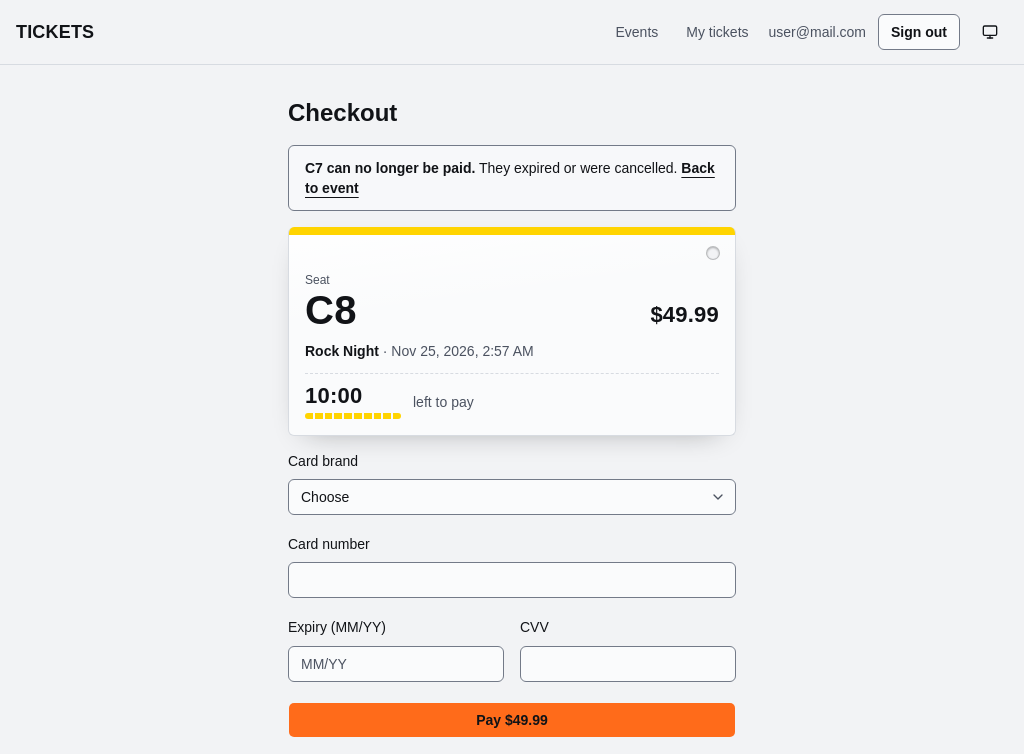
group checkout: paying › charges only the reservations that are still valid
Select "VISA" in the dropdown labelled "Card brand" at (512, 497), box [288,479,736,515]
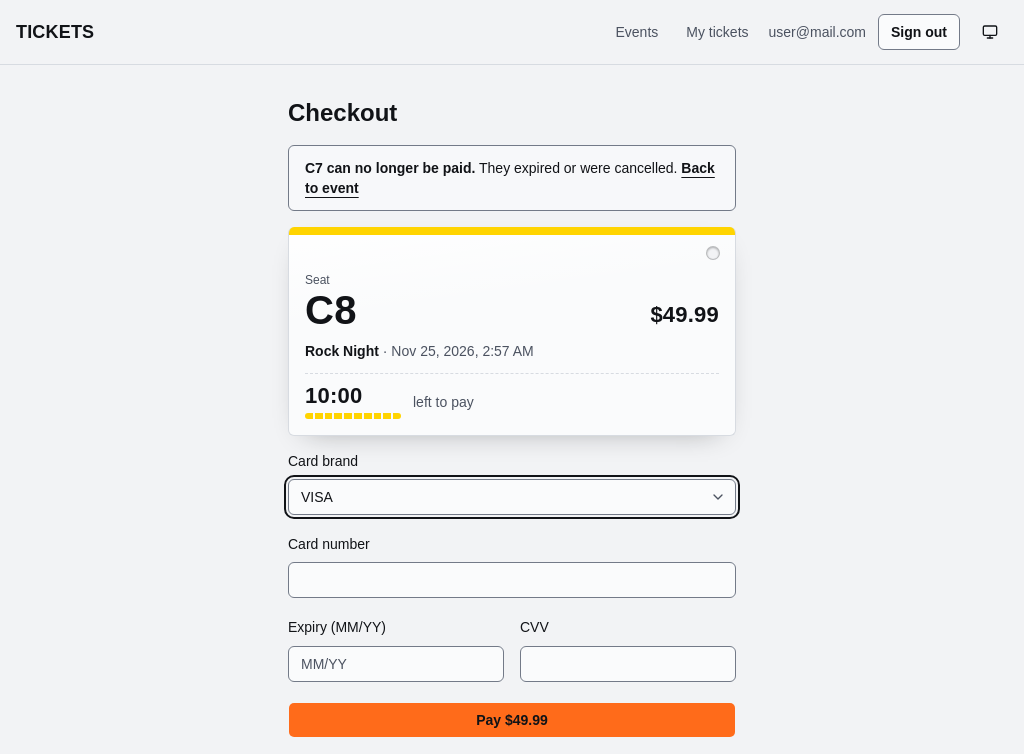
Type "4111111111111111" into the field labelled "Card number".
click(512, 580); type("4111111111111111")  # box [288,562,736,598]
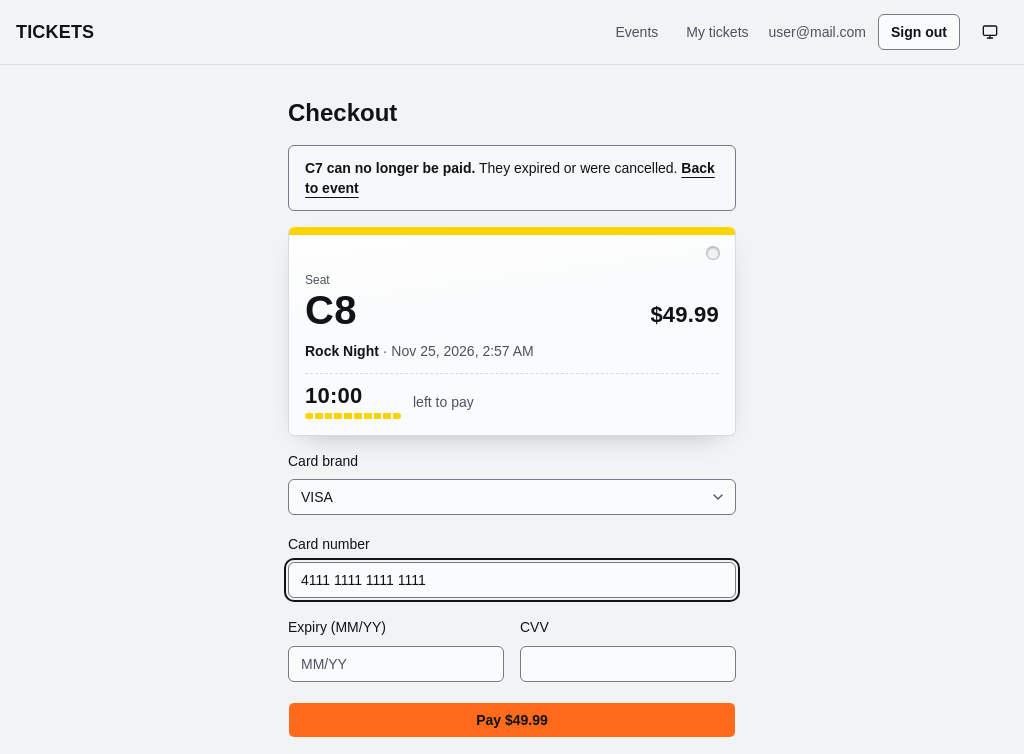
Type "1299" into the field labelled "Expiry (MM/YY)".
click(396, 664); type("1299")  # box [288,646,504,682]
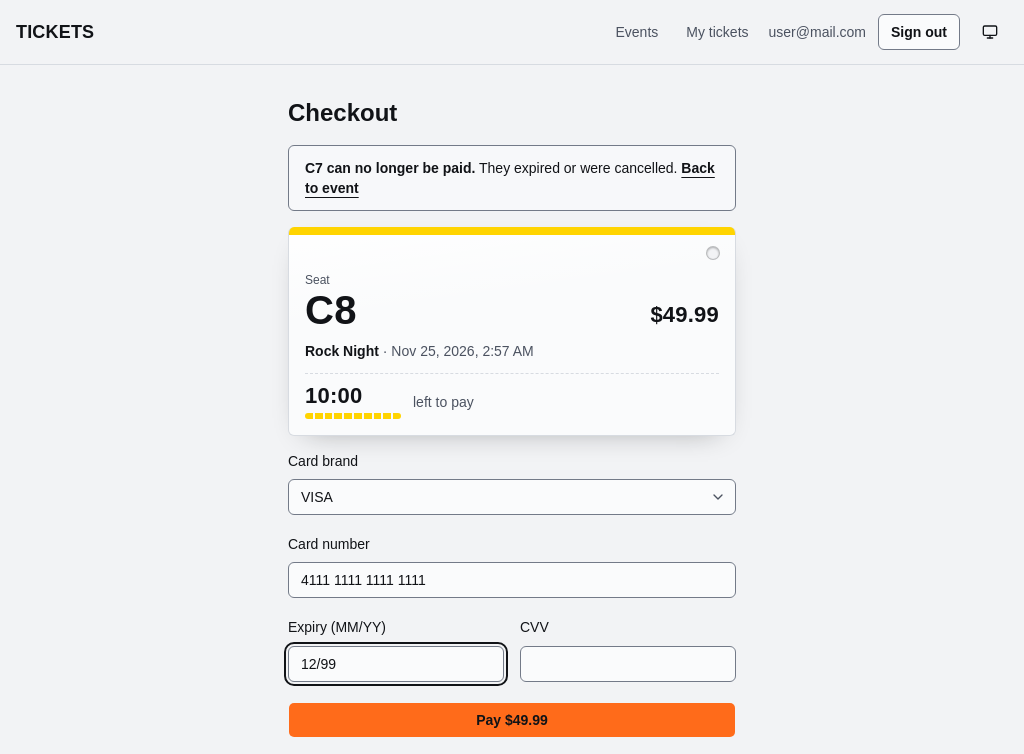
Type "123" into the field labelled "CVV".
click(628, 664); type("123")  # box [520,646,736,682]
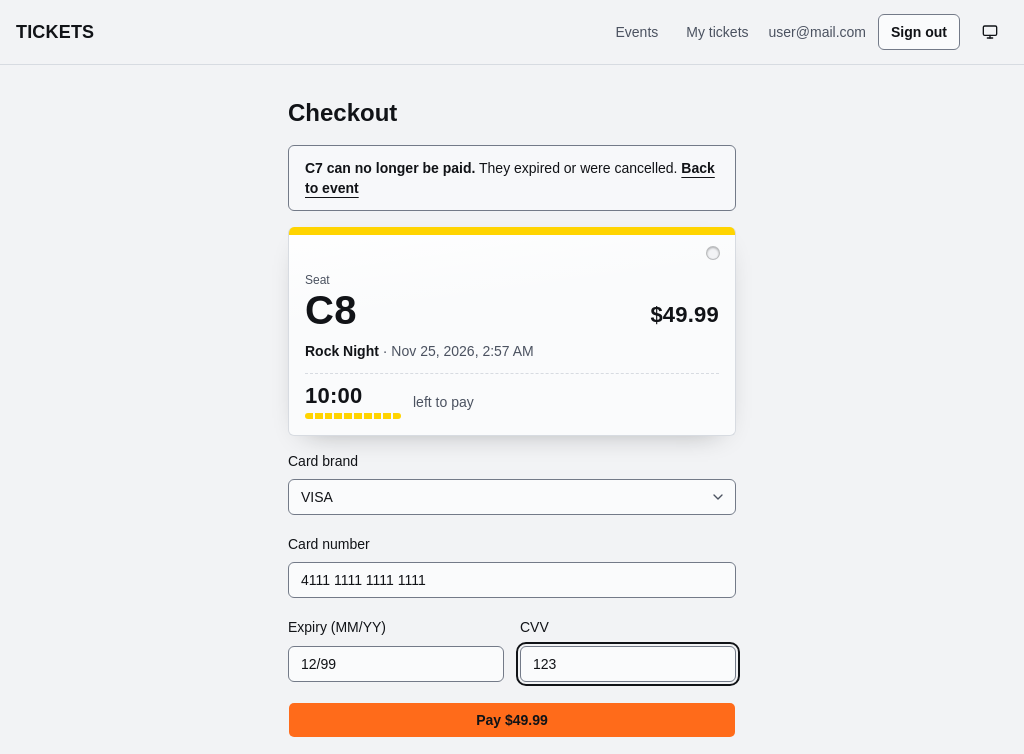
Click the button "Pay $49.99".
click(512, 720)  # box [288,702,736,738]
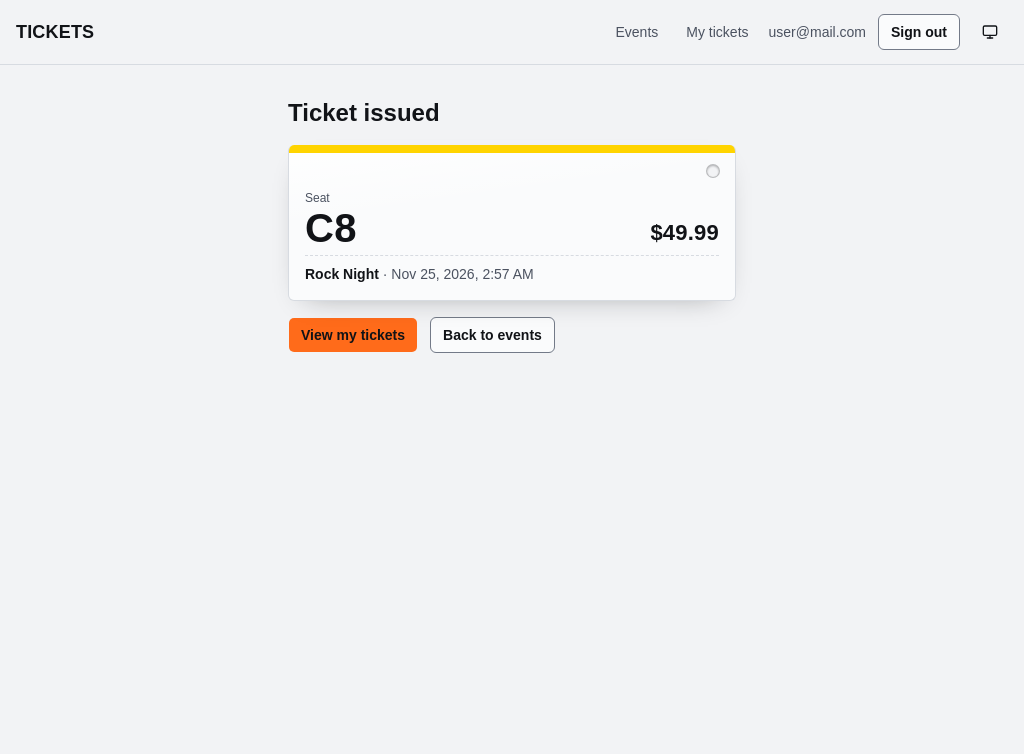
expect the heading "Ticket issued" is shown: met, box [288,99,440,126]
